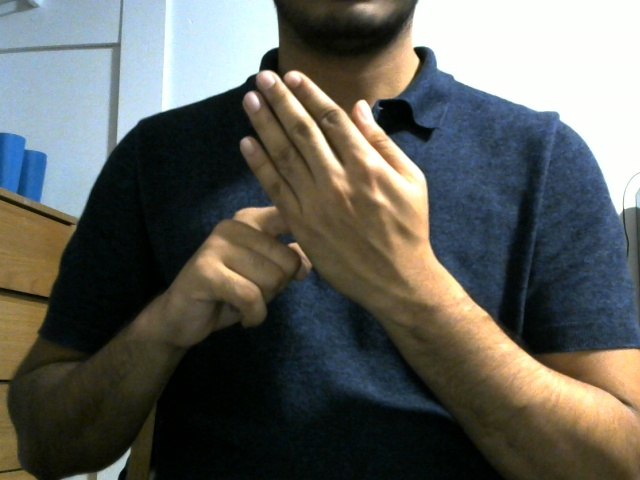Project: (169, 65, 446, 333)
